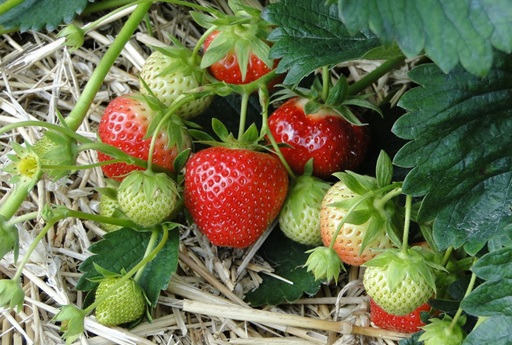ripe_strawberry: (183, 143, 291, 251), (263, 96, 368, 182), (96, 94, 194, 181), (206, 27, 287, 92), (369, 299, 433, 334)
unripe_strawberry: (318, 177, 400, 267), (138, 45, 217, 117), (362, 252, 437, 318), (118, 171, 181, 230), (279, 179, 324, 247), (95, 275, 148, 328)
